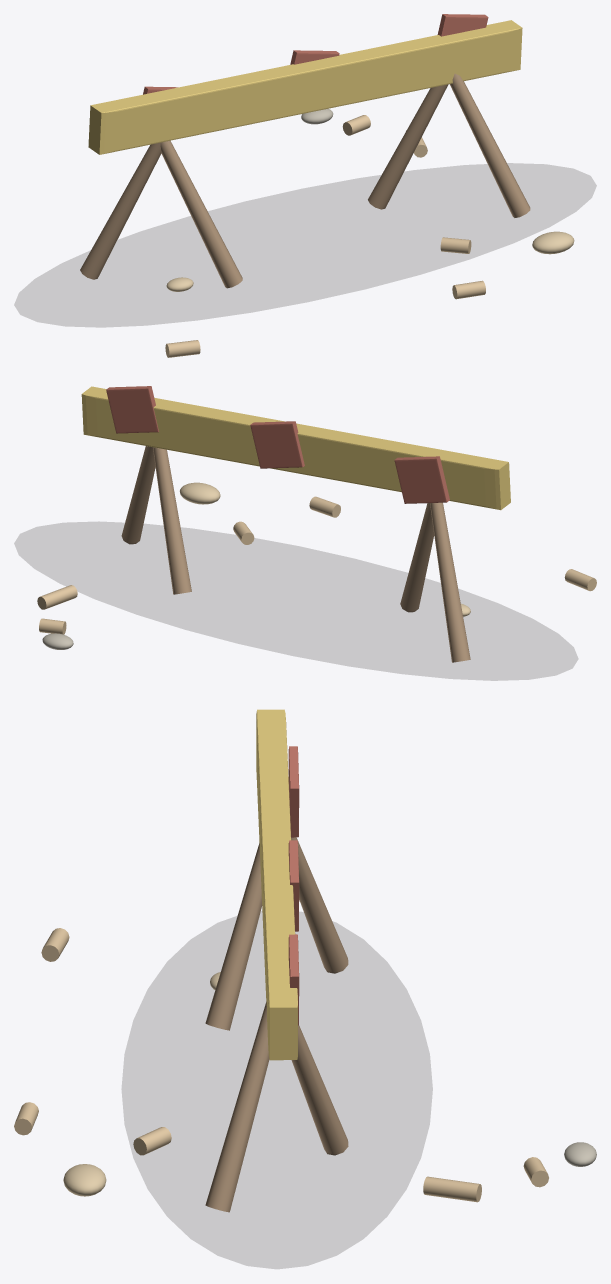
Rendered from roadblock_barricade.glb.
The picture shows the model from 3 angles, top to bottom: view 1: azimuth 30°, elevation 25°; view 2: azimuth 150°, elevation 25°; view 3: azimuth 270°, elevation 25°; orthographic projection. The views are drawn at different scales.
Parts seen in each view (by area): view 1: painted_contact_shadow, striped_barricade_board, left_sawhorse_leg_b, right_sawhorse_leg_b, left_sawhorse_leg_a, right_sawhorse_leg_a, dull_red_stripe_2, ground_pebble_detail_5, discarded_bolt_detail_7, dull_red_stripe_1, discarded_bolt_detail_4, discarded_bolt_detail_3; view 2: painted_contact_shadow, striped_barricade_board, left_sawhorse_leg_a, right_sawhorse_leg_a, dull_red_stripe_0, dull_red_stripe_1, dull_red_stripe_2, left_sawhorse_leg_b, right_sawhorse_leg_b, ground_pebble_detail_5, discarded_bolt_detail_0, discarded_bolt_detail_7 (+2 smaller); view 3: painted_contact_shadow, striped_barricade_board, right_sawhorse_leg_b, left_sawhorse_leg_b, right_sawhorse_leg_a, left_sawhorse_leg_a, ground_pebble_detail_5, discarded_bolt_detail_0, dull_red_stripe_0, dull_red_stripe_1.
Boxes of the visible parts, x1,y1,x2,y2 form: painted_contact_shadow: (14, 163, 596, 326); striped_barricade_board: (88, 20, 522, 154); left_sawhorse_leg_b: (160, 140, 242, 288); right_sawhorse_leg_b: (449, 73, 530, 217); left_sawhorse_leg_a: (80, 142, 161, 279); right_sawhorse_leg_a: (368, 84, 448, 209); dull_red_stripe_2: (437, 14, 488, 36); ground_pebble_detail_5: (532, 231, 574, 254); discarded_bolt_detail_7: (165, 340, 200, 357); dull_red_stripe_1: (290, 50, 339, 64); discarded_bolt_detail_4: (452, 280, 485, 299); discarded_bolt_detail_3: (440, 237, 471, 253); painted_contact_shadow: (14, 522, 577, 680); striped_barricade_board: (81, 386, 510, 510); left_sawhorse_leg_a: (430, 502, 470, 662); right_sawhorse_leg_a: (153, 447, 191, 594); dull_red_stripe_0: (394, 456, 449, 503); dull_red_stripe_1: (250, 421, 304, 468); dull_red_stripe_2: (106, 386, 158, 433); left_sawhorse_leg_b: (400, 503, 434, 612); right_sawhorse_leg_b: (121, 446, 155, 544); ground_pebble_detail_5: (179, 482, 220, 504); discarded_bolt_detail_0: (37, 585, 77, 609); discarded_bolt_detail_7: (564, 569, 596, 591); painted_contact_shadow: (122, 911, 432, 1268); striped_barricade_board: (256, 709, 297, 1060); right_sawhorse_leg_b: (205, 1001, 269, 1212); left_sawhorse_leg_b: (205, 843, 262, 1030); right_sawhorse_leg_a: (291, 1025, 348, 1155); left_sawhorse_leg_a: (291, 837, 348, 973); ground_pebble_detail_5: (63, 1164, 106, 1196); discarded_bolt_detail_0: (423, 1176, 481, 1202); dull_red_stripe_0: (288, 746, 299, 837); dull_red_stripe_1: (288, 840, 299, 931).
Bounding box in the file's own units: 2.3 × 0.7395 × 1.57.
